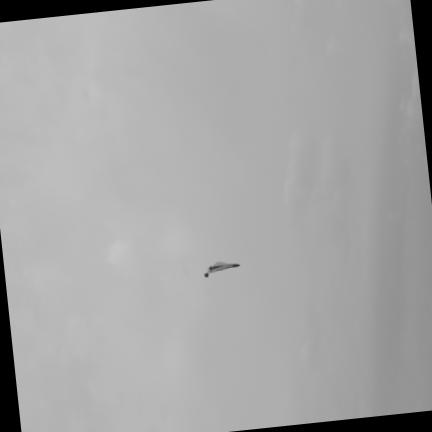Shahed: (205, 261, 239, 276)
